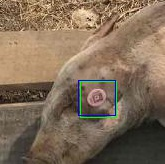text: (80, 81, 116, 117)
